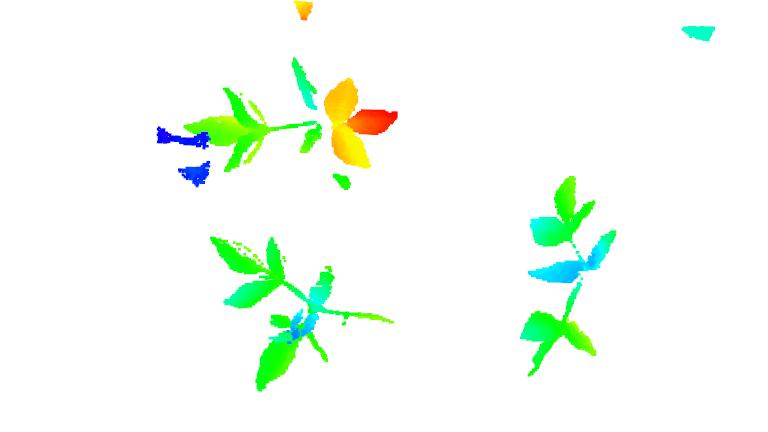mungbean: (207, 232, 396, 395), (185, 55, 400, 173), (522, 174, 619, 377)
